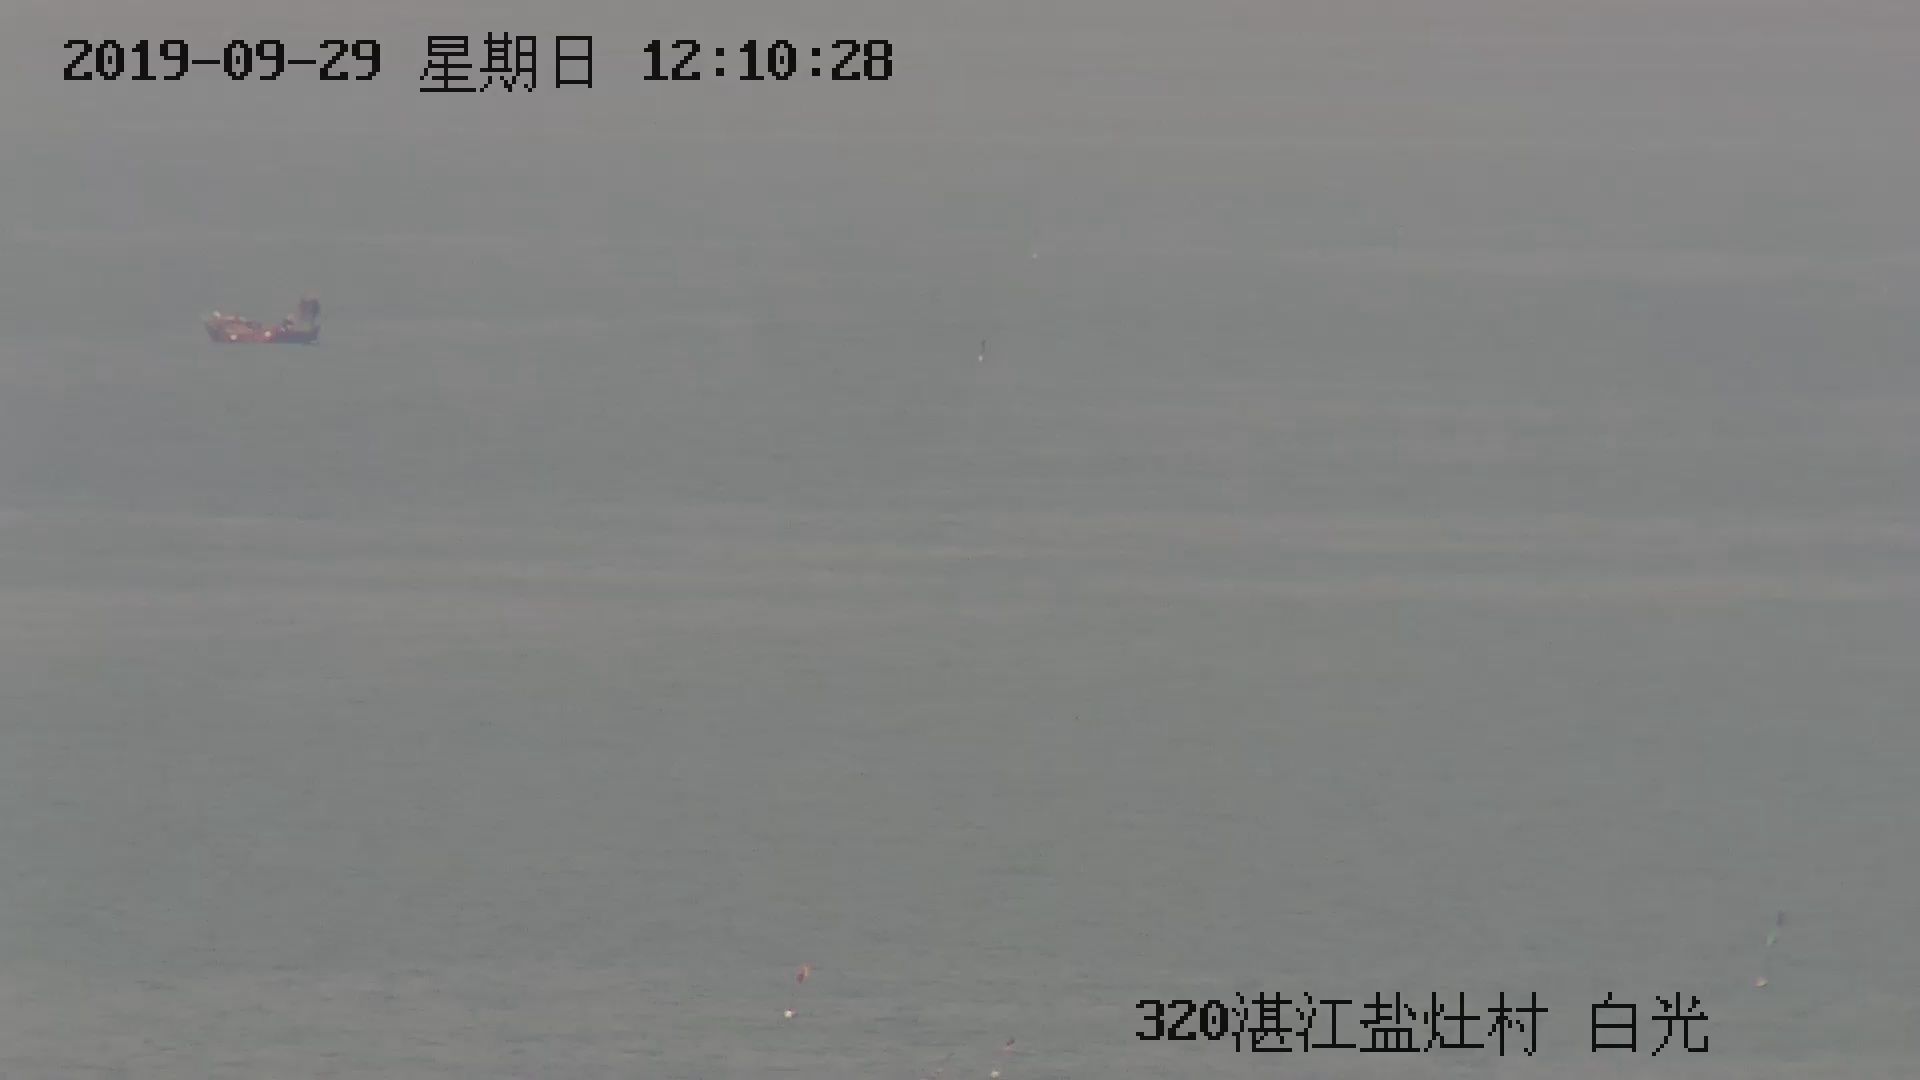ship: (200, 302, 326, 348)
